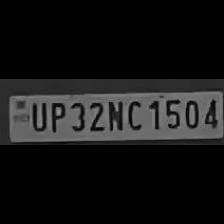0: (180, 96, 200, 128)
1: (144, 97, 162, 131)
2: (86, 98, 104, 132)
3: (66, 98, 86, 132)
4: (200, 96, 220, 130)
5: (162, 96, 180, 130)
C: (124, 97, 144, 131)
N: (104, 97, 124, 131)
P: (45, 98, 65, 132)
U: (26, 99, 46, 131)
